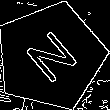N_SE: (18, 24, 83, 89)
